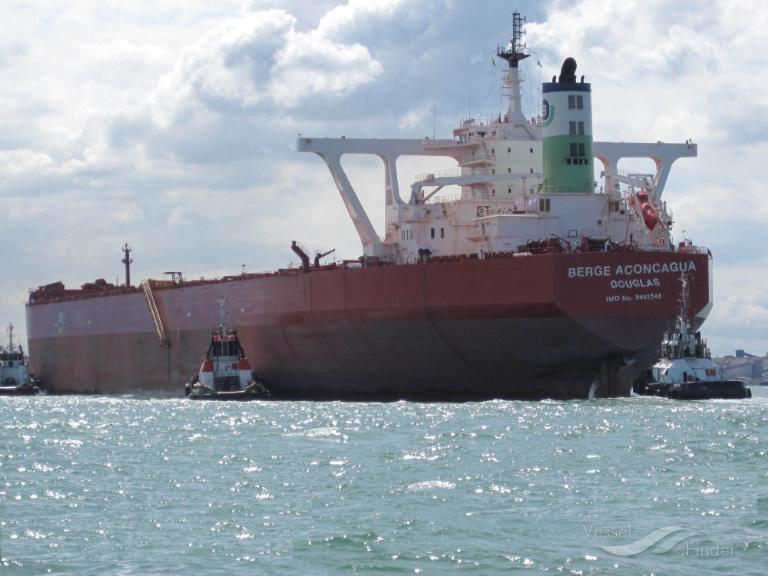OCR: (562, 258, 696, 314)
